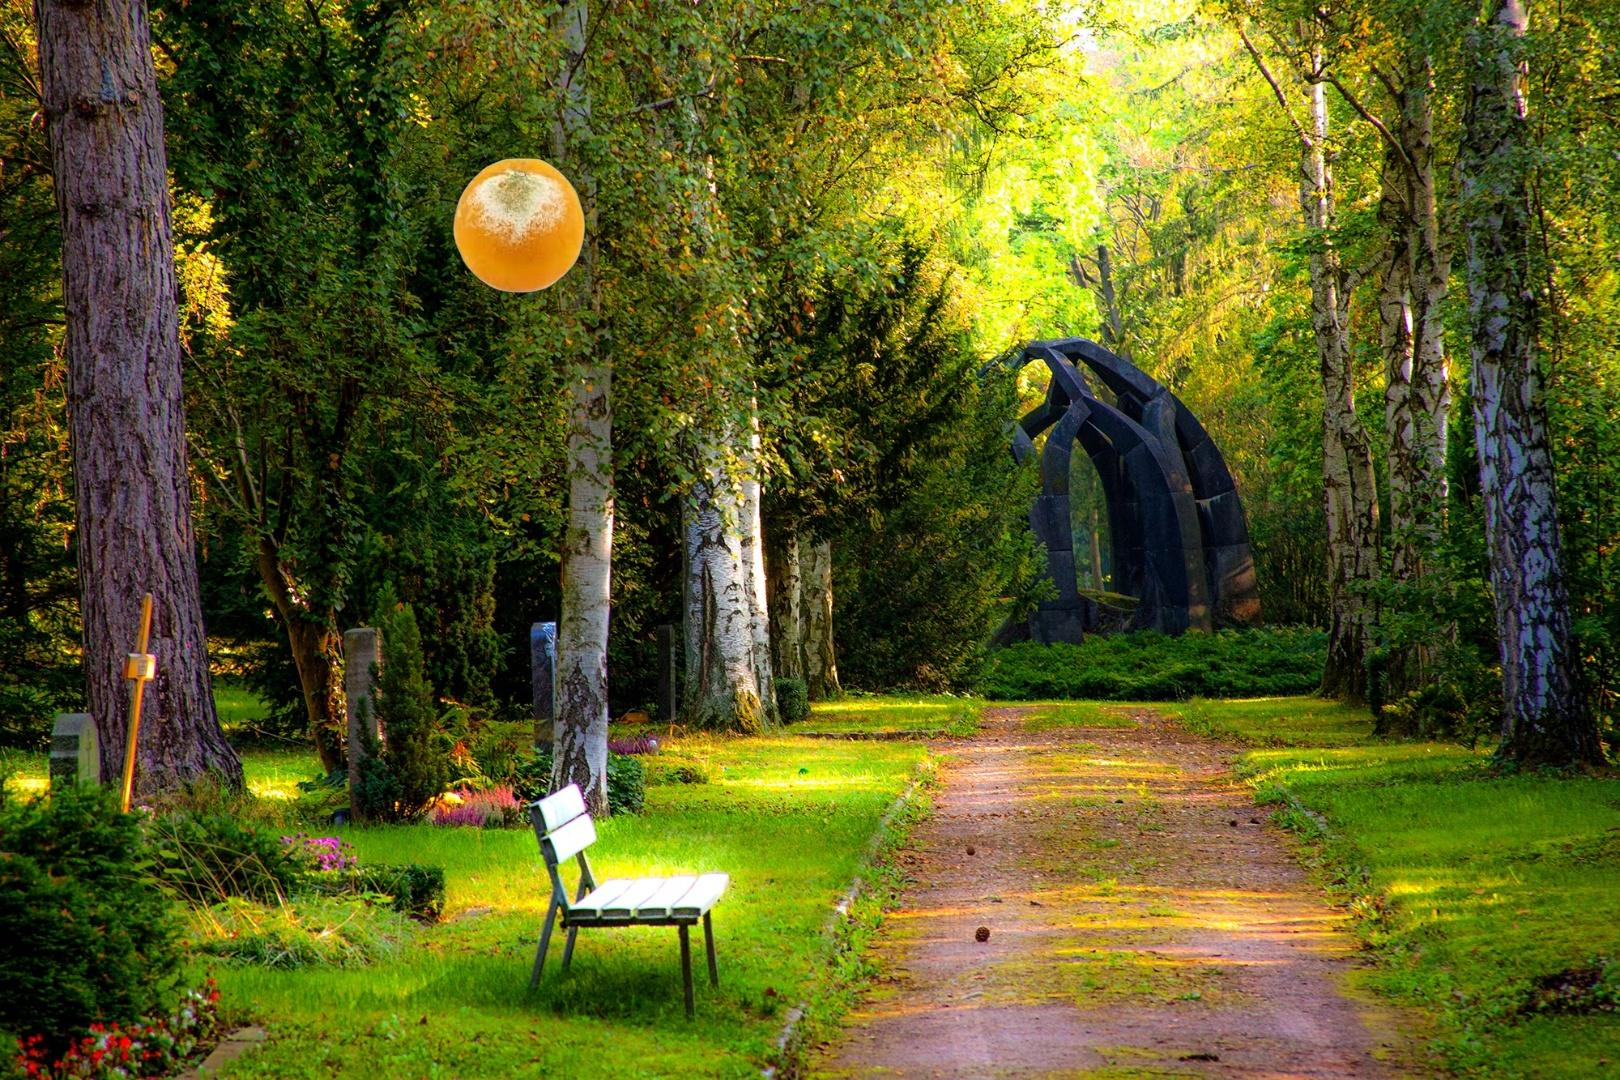biological: (451, 155, 589, 297)
